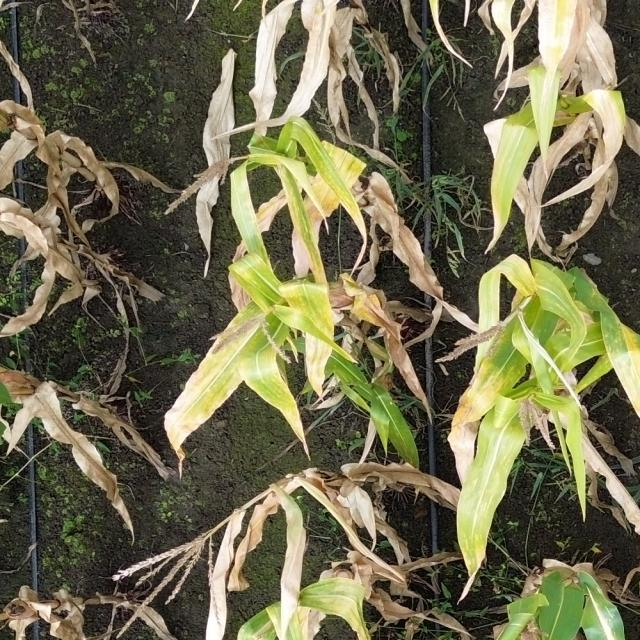gray-leaf-spot: (468, 441, 510, 522)
northern-leaf-blight: (582, 589, 629, 640)
southern-leaf-blight: (283, 288, 337, 324), (600, 326, 640, 372), (310, 151, 350, 196), (247, 366, 293, 402), (235, 255, 272, 283)
